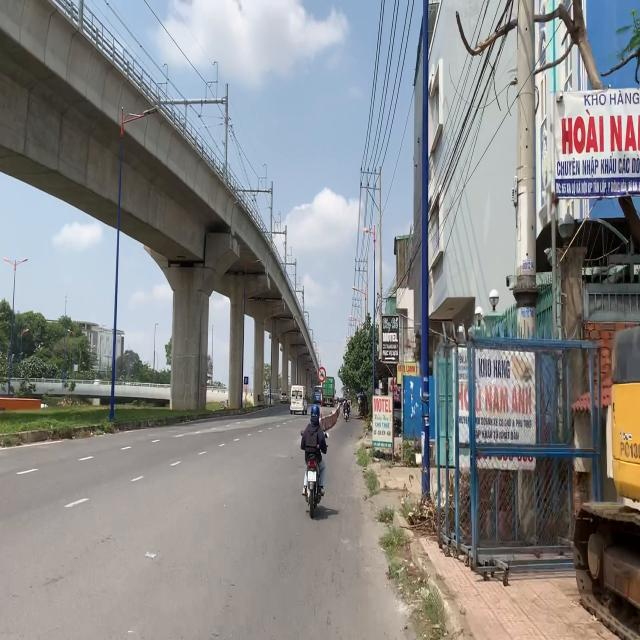Cam con lai: (318, 367, 326, 382)
Chi dan: (244, 376, 248, 385)
